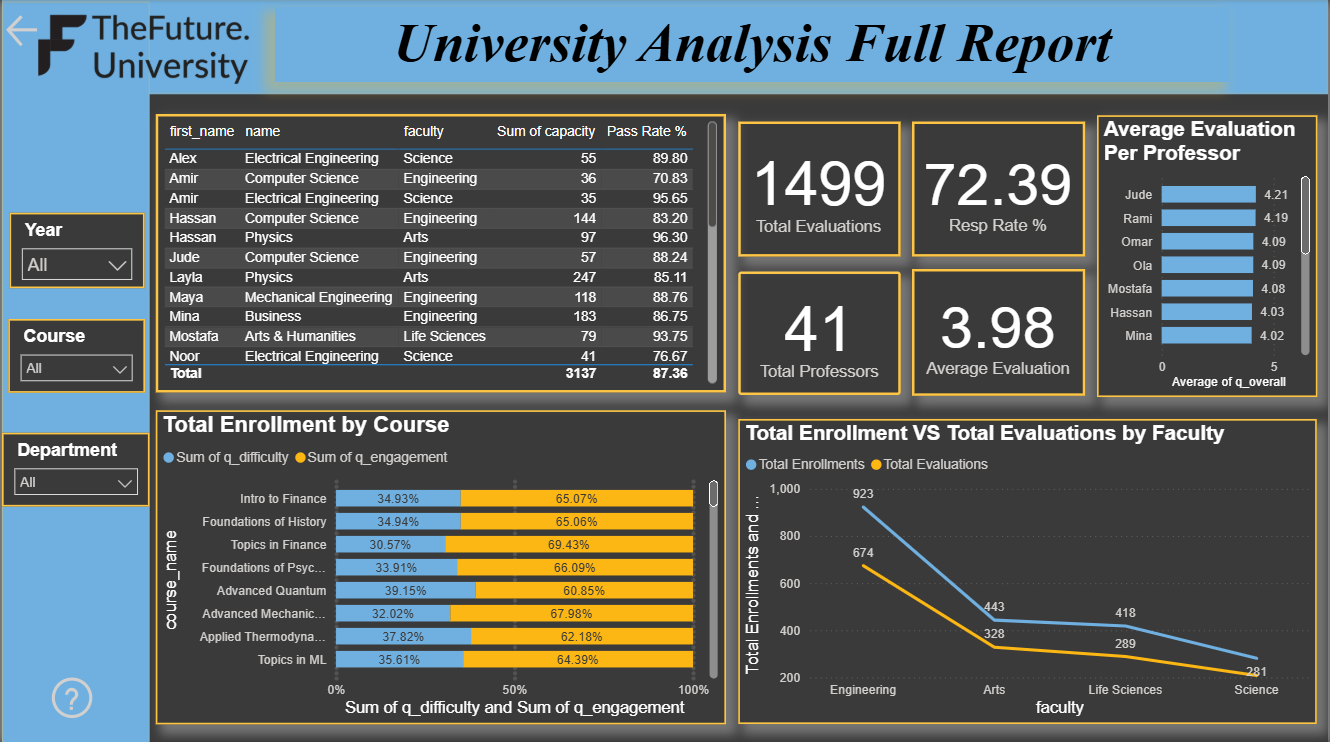

This screenshot's page, from the dashboard's own definition file:
{"tool":"powerbi","page":{"name":"Teaching Quality","canvas":[1280,720],"ordinal":2},"visuals":[{"type":"card","fields":{"Values":["Count(Dim_Professors.professor_id)"]},"box":[710.8,263.5,156.4,119.4],"z":0},{"type":"card","fields":{"Values":["Count(Dim_Evaluations.evaluation_id)"]},"box":[710.8,118,156.4,130.4],"z":1000},{"type":"card","fields":{"Values":["DAX Measures.Resp Rate %"]},"box":[878.2,118,167.4,130.4],"z":2000},{"type":"shape","box":[0,0,1280.3,91.9],"z":2500,"group":"g1"},{"type":"shape","box":[0,2.7,142.7,717.7],"z":3000,"group":"g1"},{"type":"hundredPercentStackedBarChart","title":"Total Enrollment by Course","fields":{"Category":["Dim_courses.course_name"],"Y":["Sum(Dim_Evaluations.q_difficulty)","Sum(Dim_Evaluations.q_engagement)"]},"box":[148.4,396.9,550.1,302.8],"z":3000},{"type":"lineChart","title":"Total Enrollment VS Total Evaluations by Faculty","fields":{"Category":["Dim_Departments.faculty"],"Y":["CountNonNull(Fact_Enrollments.enrollment_id)","CountNonNull(Dim_Evaluations.evaluation_id)"]},"box":[710.6,405.4,558.6,294.4],"z":4000},{"type":"group","id":"g1","title":"Group 1","box":[0,0,1280.3,720.4],"z":5000},{"type":"slicer","fields":{"Values":["Dim_Departments.name"]},"box":[0,418.5,142.7,71.4],"z":6000},{"type":"textbox","box":[263.5,6.9,922.1,72.7],"z":7000},{"type":"slicer","fields":{"Values":["Dim_Departments.name"]},"box":[5.5,308.7,131.7,71.4],"z":8000},{"type":"image","box":[20.6,2.7,242.9,91.9],"z":9000},{"type":"tableEx","fields":{"Values":["Dim_Professors.first_name","Dim_Departments.name","Dim_Departments.faculty","Sum(Dim_Course_Offerings.capacity)","DAX Measures.Pass Rate %"]},"box":[148.2,111.1,550.3,269],"z":10000},{"type":"slicer","fields":{"Values":["Dim_Students.start_year"]},"box":[6.9,205.8,130.4,72.7],"z":10001,"group":"g1"},{"type":"actionButton","box":[42.5,649.1,57.6,50.8],"z":11000},{"type":"actionButton","box":[0,11,42.5,39.8],"z":12000},{"type":"card","fields":{"Values":["Avg(Dim_Evaluations.q_overall)"]},"box":[878.2,260.7,167.4,122.1],"z":13000},{"type":"clusteredBarChart","title":"Average Evaluation Per Professor","fields":{"Y":["Avg(Dim_Evaluations.q_overall)"],"Category":["Dim_Professors.first_name"]},"box":[1056.6,112.5,212.7,271.7],"z":14000}]}

Visuals, with their boxes in screenshot pixels (x1, y1, x2, y2), scaled from the page's 1280x720 canvas onto the 1330x742 screenshot:
card - Count(Dim_Professors.professor_id): [739,272,901,395]
card - Count(Dim_Evaluations.evaluation_id): [739,122,901,256]
card - DAX Measures.Resp Rate %: [913,122,1086,256]
shape: [0,0,1329,95]
shape: [0,3,148,741]
"Total Enrollment by Course" hundredPercentStackedBarChart: [154,409,726,721]
"Total Enrollment VS Total Evaluations by Faculty" lineChart: [738,418,1319,721]
"Group 1" group: [0,0,1329,741]
slicer - Dim_Departments.name: [0,431,148,505]
textbox: [274,7,1232,82]
slicer - Dim_Departments.name: [6,318,143,392]
image: [21,3,274,97]
tableEx - Dim_Professors.first_name x Dim_Departments.name: [154,114,726,392]
slicer - Dim_Students.start_year: [7,212,143,287]
actionButton: [44,669,104,721]
actionButton: [0,11,44,52]
card - Avg(Dim_Evaluations.q_overall): [913,269,1086,394]
"Average Evaluation Per Professor" clusteredBarChart: [1098,116,1319,396]
